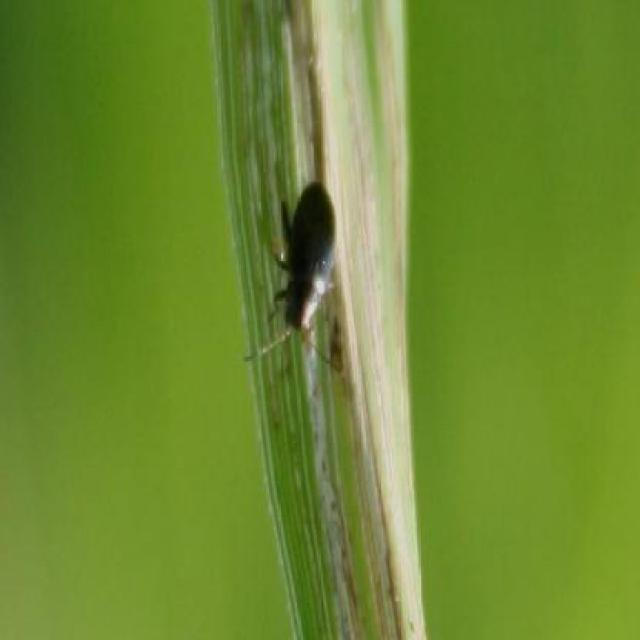rice-bug: (269, 177, 348, 345)
